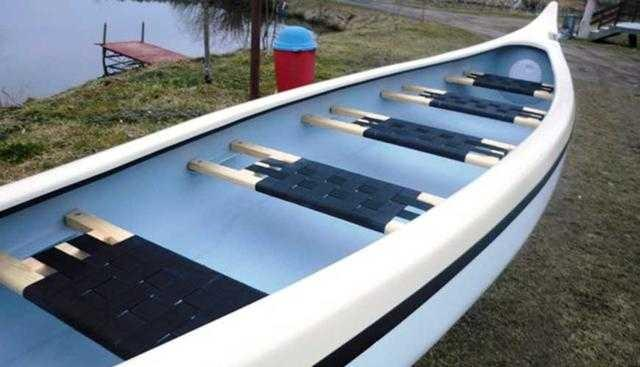kayak: (3, 3, 575, 361)
